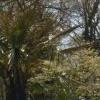Palm tree: (3, 5, 48, 100)
